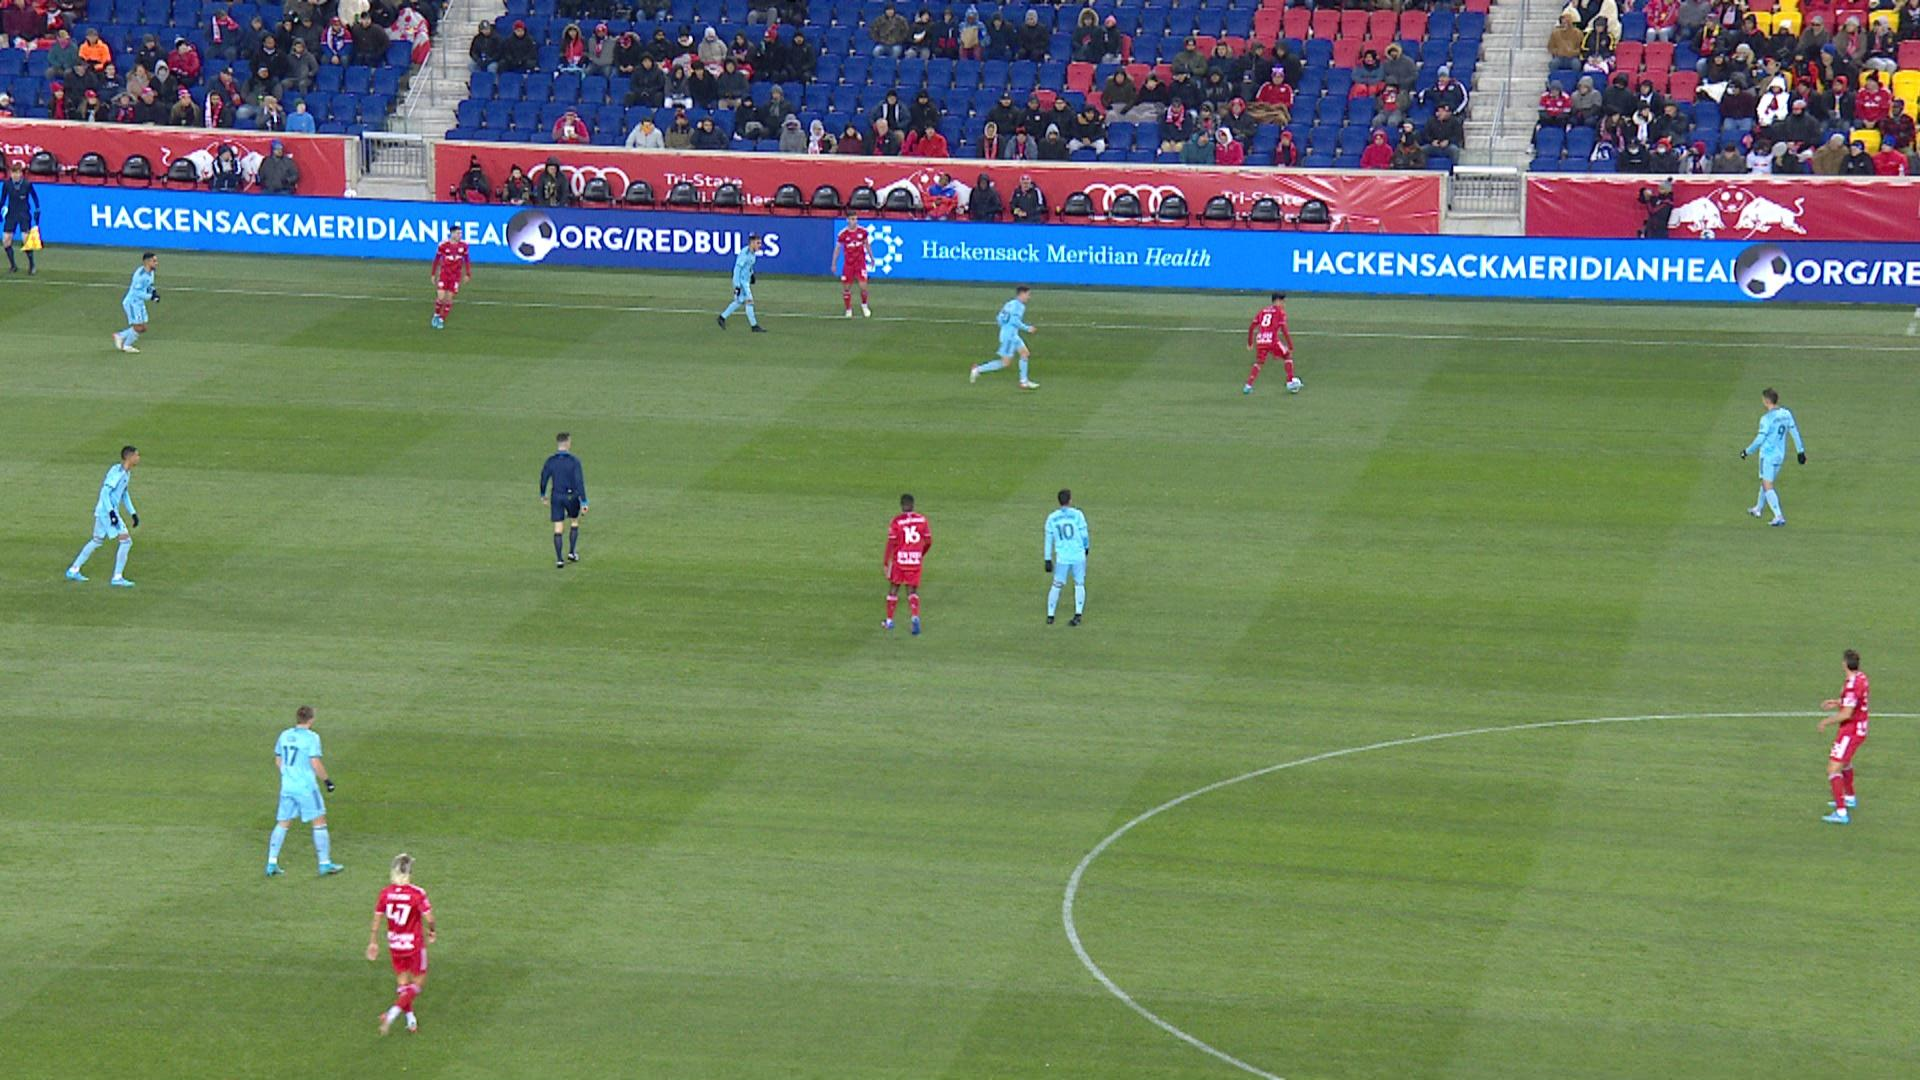football: (1287, 377, 1303, 393)
